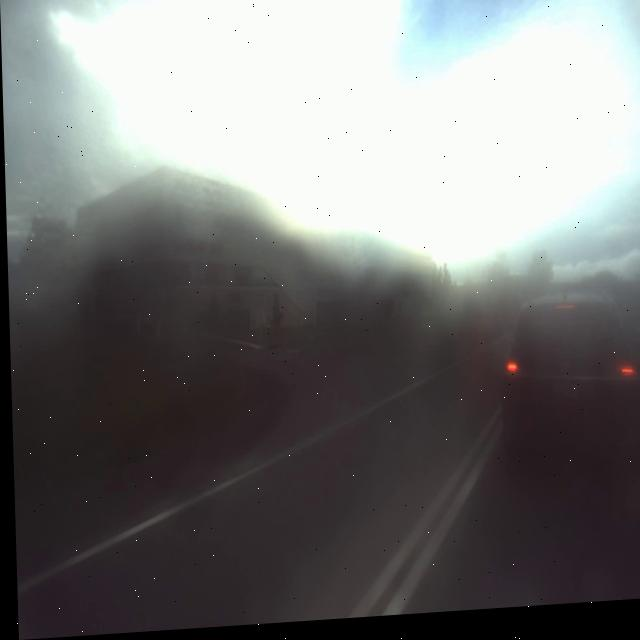car: (500, 286, 640, 475)
